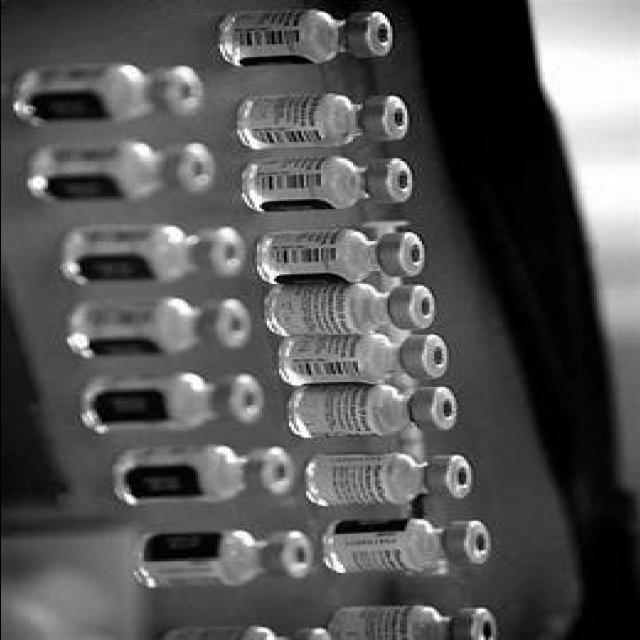vial: (218, 372, 266, 438), (264, 526, 318, 584), (410, 387, 460, 437), (394, 280, 436, 338), (174, 138, 216, 194), (362, 96, 408, 146), (406, 328, 450, 380), (370, 156, 408, 211), (260, 446, 297, 502), (163, 66, 210, 110), (208, 302, 250, 348), (354, 14, 391, 66), (382, 234, 420, 278), (208, 228, 238, 276), (456, 522, 484, 564), (438, 456, 473, 488), (463, 607, 495, 640), (292, 631, 338, 640)
